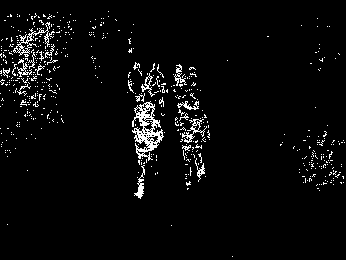person: (174, 94, 211, 191), (129, 101, 165, 199), (142, 61, 167, 118), (126, 59, 146, 105)
